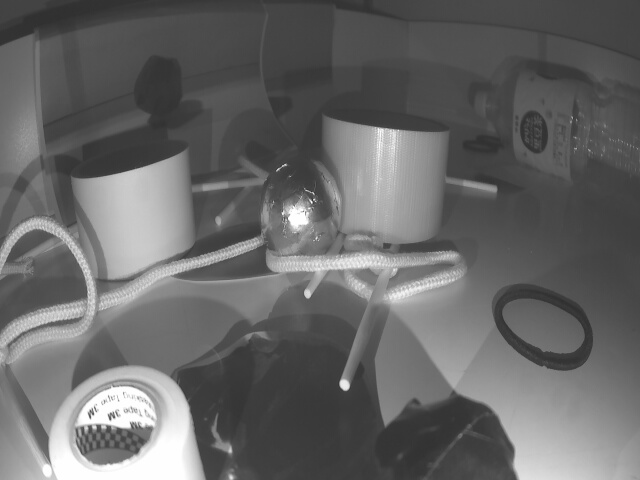Live: (261, 157, 342, 264)
